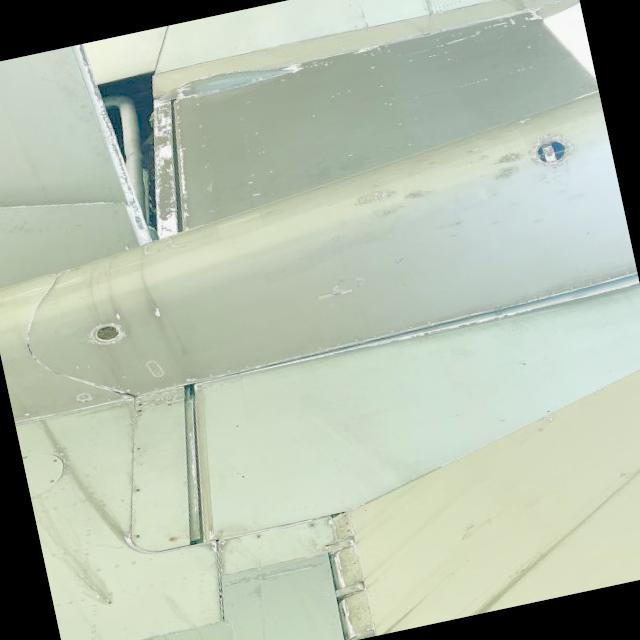crack: (288, 278, 354, 310)
